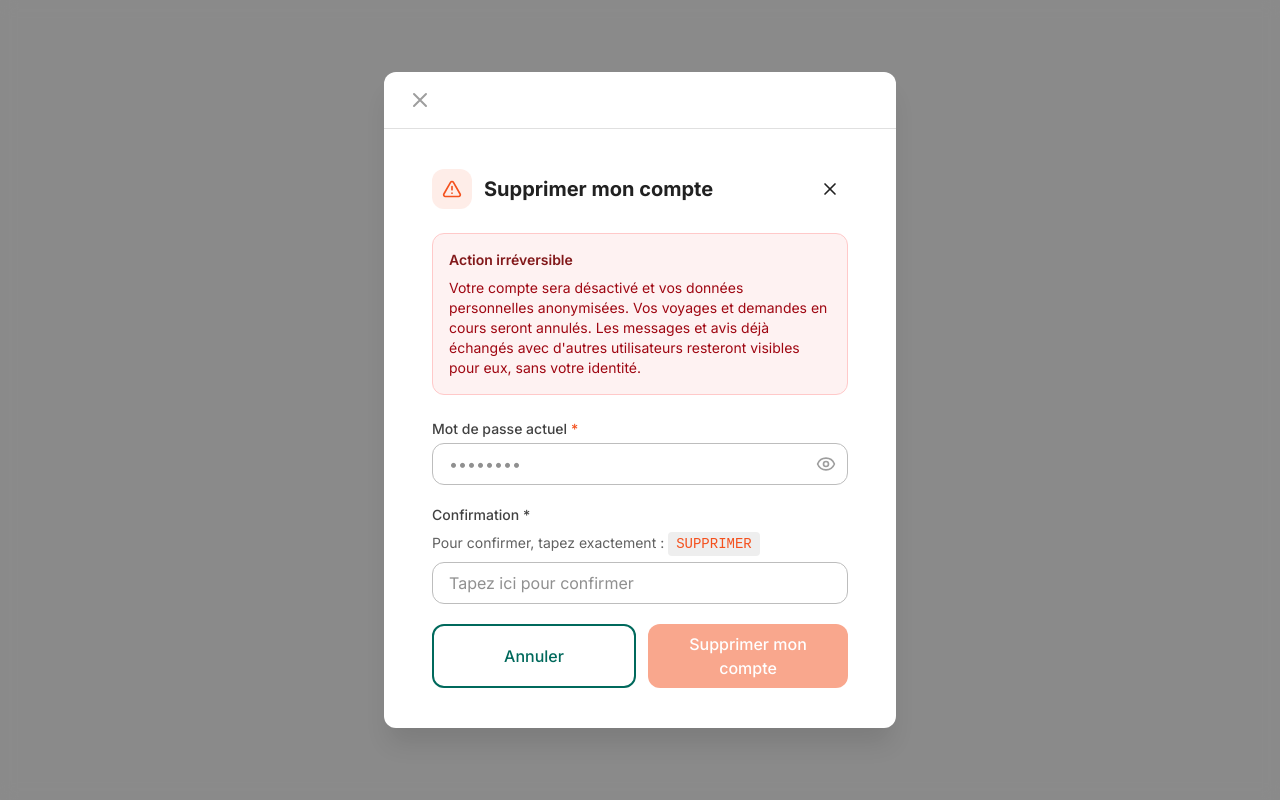
DeleteAccountModal - logique metier (Phase 5 RGPD) › exige le mot de passe pour un compte local : bouton desactive tant que le mot de passe est vide
Expected: the password field labelled "Mot de passe actuel*" is shown, [432, 443, 848, 485]
Expected: the button "Supprimer mon compte" is disabled, [648, 624, 848, 688]
In the field with placeholder "Tapez ici pour confirmer": coordinates (640, 583) [432, 562, 848, 604], type "SUPPRIMER"
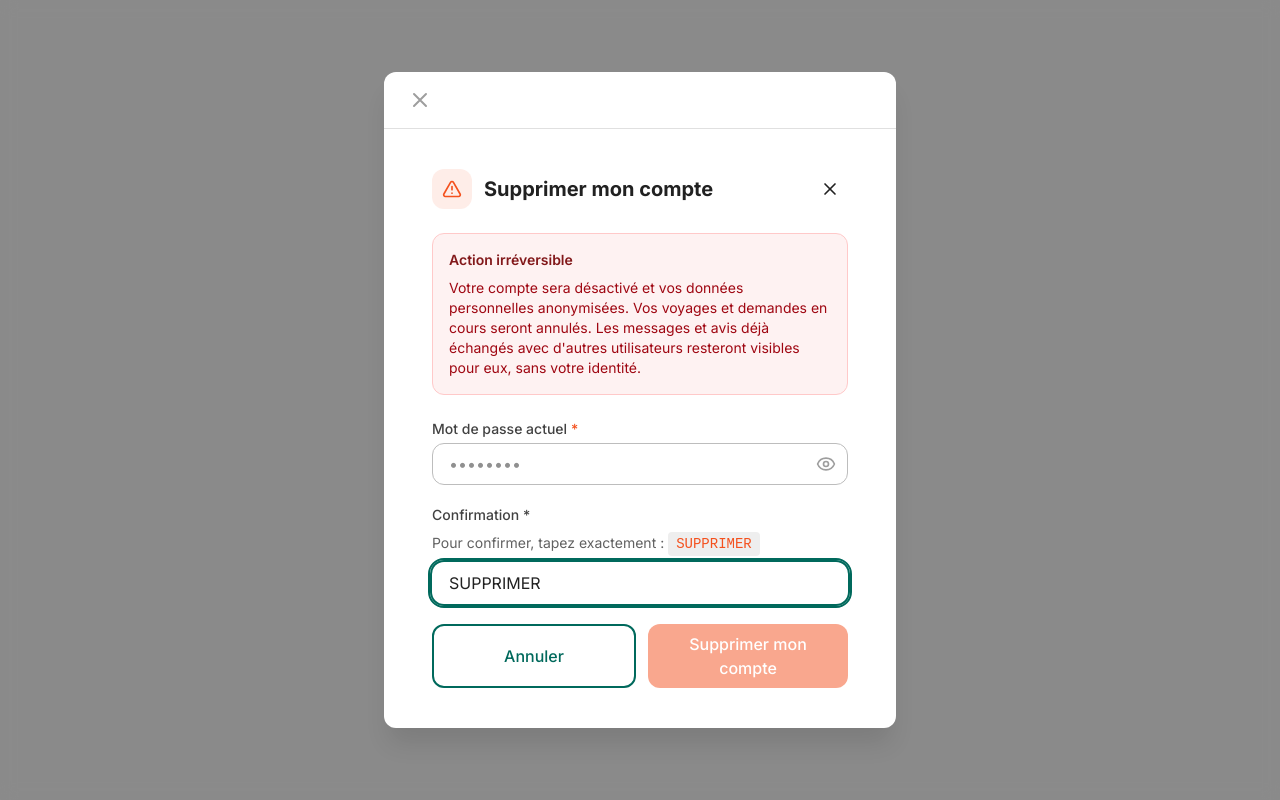
Expected: the button "Supprimer mon compte" is disabled, [648, 624, 848, 688]
In the password field labelled "Mot de passe actuel*": coordinates (640, 464) [432, 443, 848, 485], type "monMotDePasse"
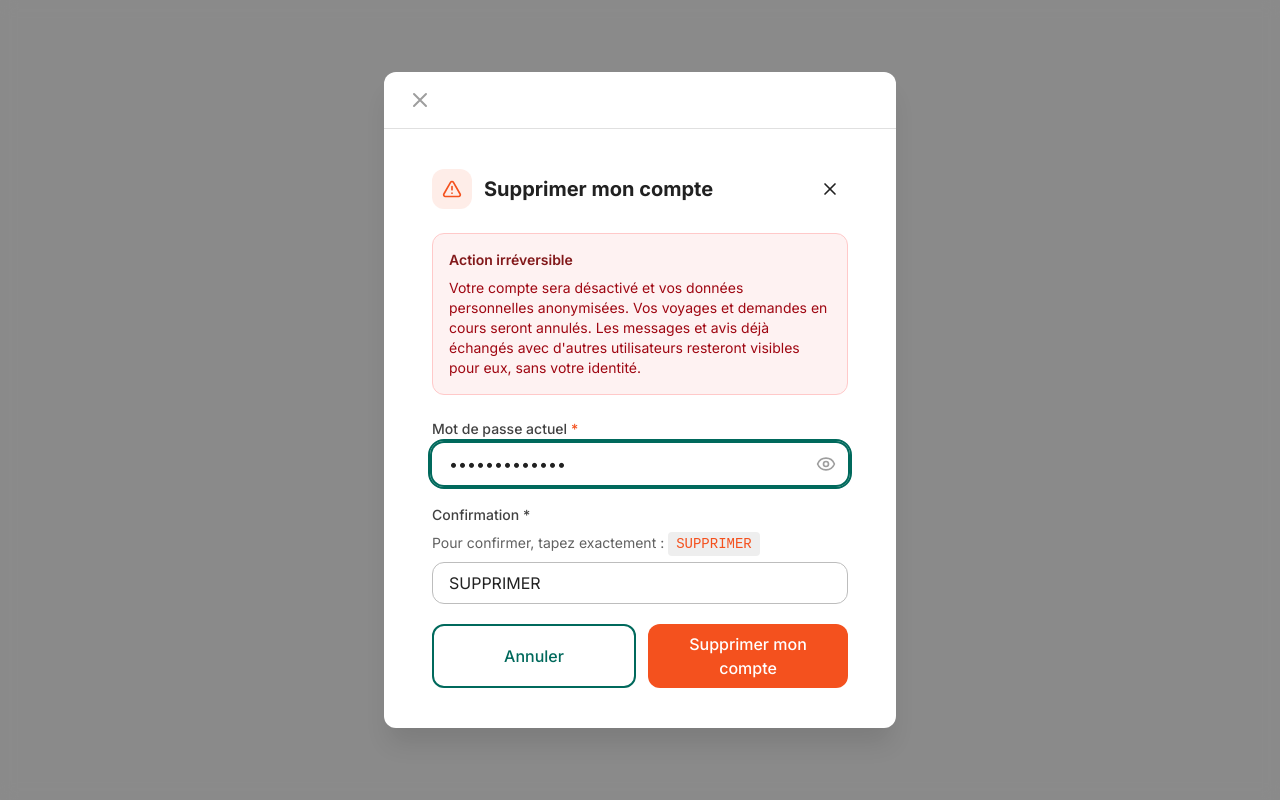
Expected: the button "Supprimer mon compte" is enabled, [648, 624, 848, 688]
